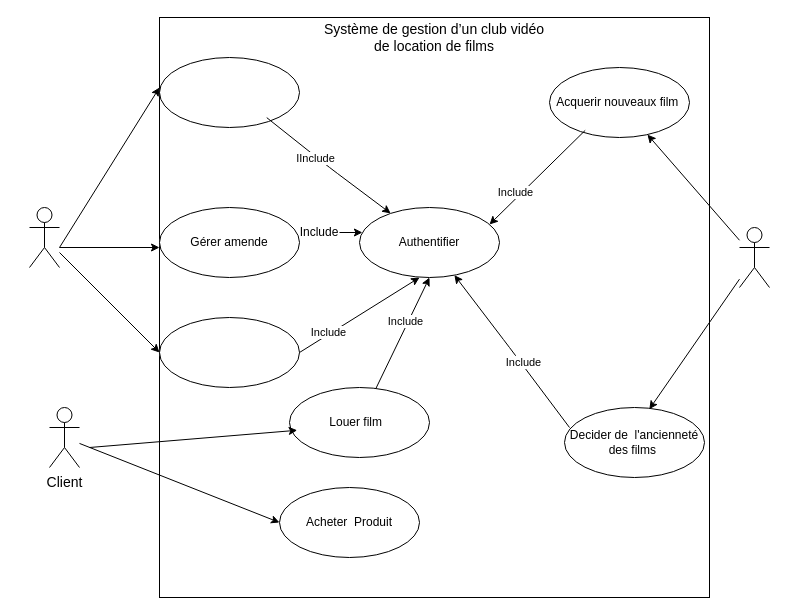
Some shapes in this 793 by 615 pixel diagram are drawn without their labels. Each missing label, with the box of its shape:
Employé: (28, 206, 60, 268)
Gérant: (738, 226, 770, 288)
Gérer présentoir: (158, 316, 300, 388)
Traiter Vente: (158, 56, 300, 128)
